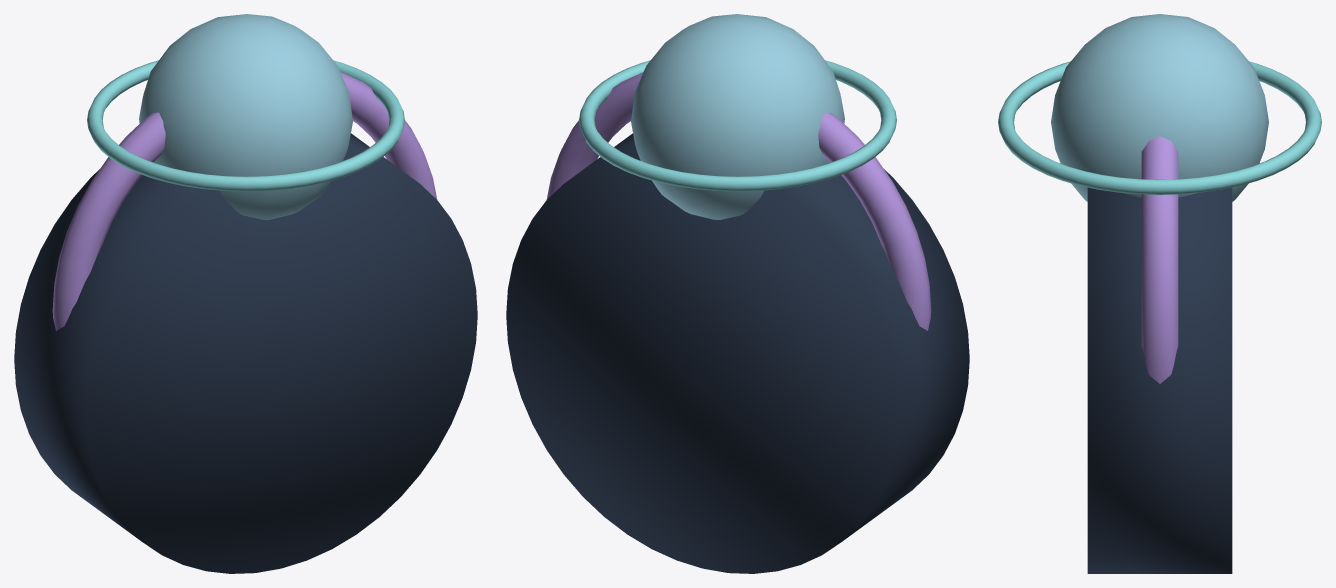
The model's file is agent-source-station-v1.gltf.
The picture shows the model from 3 angles, left to right: view 1: azimuth 30°, elevation 25°; view 2: azimuth 150°, elevation 25°; view 3: azimuth 270°, elevation 25°; orthographic projection.
Parts seen in each view (by area): view 1: agent-source-station-v1-00, agent-source-station-v1-02, agent-source-station-v1-01, agent-source-station-v1-04; view 2: agent-source-station-v1-00, agent-source-station-v1-02, agent-source-station-v1-01, agent-source-station-v1-04; view 3: agent-source-station-v1-00, agent-source-station-v1-02, agent-source-station-v1-04, agent-source-station-v1-01.
Boxes of the visible parts, x1,y1,x2,y2 form: agent-source-station-v1-00: (14,133,477,573); agent-source-station-v1-02: (139,14,352,219); agent-source-station-v1-01: (52,72,437,330); agent-source-station-v1-04: (87,60,404,191); agent-source-station-v1-00: (506,133,969,573); agent-source-station-v1-02: (631,14,844,219); agent-source-station-v1-01: (546,72,931,330); agent-source-station-v1-04: (579,60,896,191); agent-source-station-v1-00: (1087,187,1232,573); agent-source-station-v1-02: (1051,14,1268,201); agent-source-station-v1-04: (998,61,1321,194); agent-source-station-v1-01: (1141,136,1178,383).
Size of the model in its own units: 1.44 by 1.82 by 1.01.
